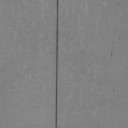surface scratch: (55, 0, 59, 128)
